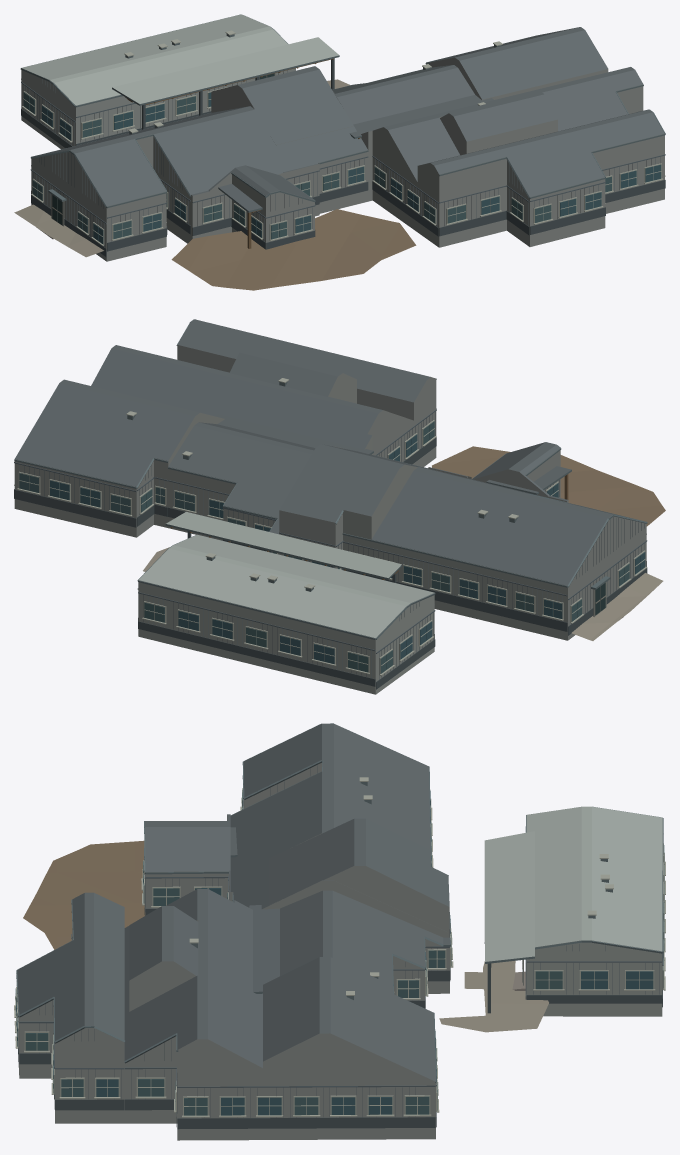
Rendered from site.glb.
The picture shows the model from 3 angles, top to bottom: view 1: azimuth 30°, elevation 25°; view 2: azimuth 150°, elevation 25°; view 3: azimuth 270°, elevation 25°; orthographic projection. The views are drawn at different scales.
Parts seen in each view (by area): view 1: roof-1c631d7c, roof-1d1be960, vivian-olum-approaches; view 2: roof-1c631d7c, roof-1d1be960, vivian-olum-approaches; view 3: roof-1c631d7c, roof-1d1be960, vivian-olum-approaches.
Boxes of the visible parts, x1=… form: roof-1c631d7c: x1=30, y1=27, x2=665, y2=261; roof-1d1be960: x1=20, y1=14, x2=339, y2=149; vivian-olum-approaches: x1=14, y1=79, x2=416, y2=290; roof-1c631d7c: x1=14, y1=319, x2=647, y2=640; roof-1d1be960: x1=137, y1=512, x2=435, y2=694; vivian-olum-approaches: x1=143, y1=446, x2=665, y2=640; roof-1c631d7c: x1=14, y1=723, x2=453, y2=1140; roof-1d1be960: x1=484, y1=806, x2=665, y2=1016; vivian-olum-approaches: x1=23, y1=840, x2=548, y2=1032.
Bounding box in the file's own units: 48.82 × 8.63 × 41.41.
